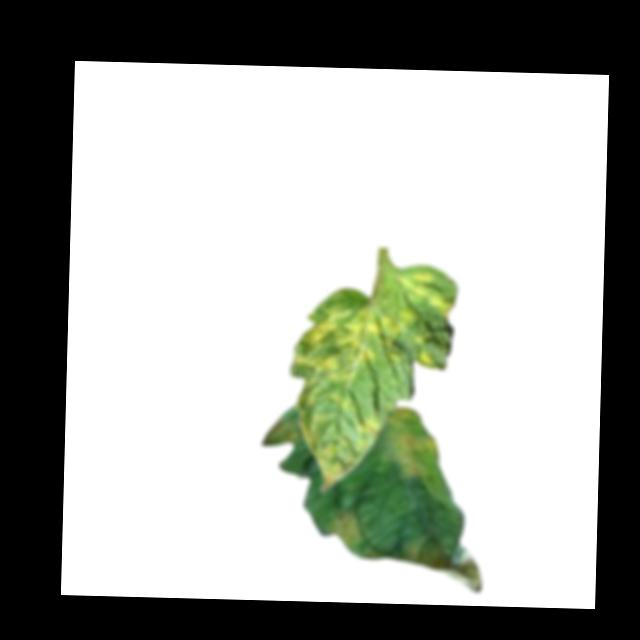Leaf_Mold: (288, 267, 460, 410), (383, 404, 457, 509), (396, 534, 485, 595), (310, 438, 368, 493), (327, 509, 371, 549), (260, 419, 306, 448), (354, 418, 382, 440)
